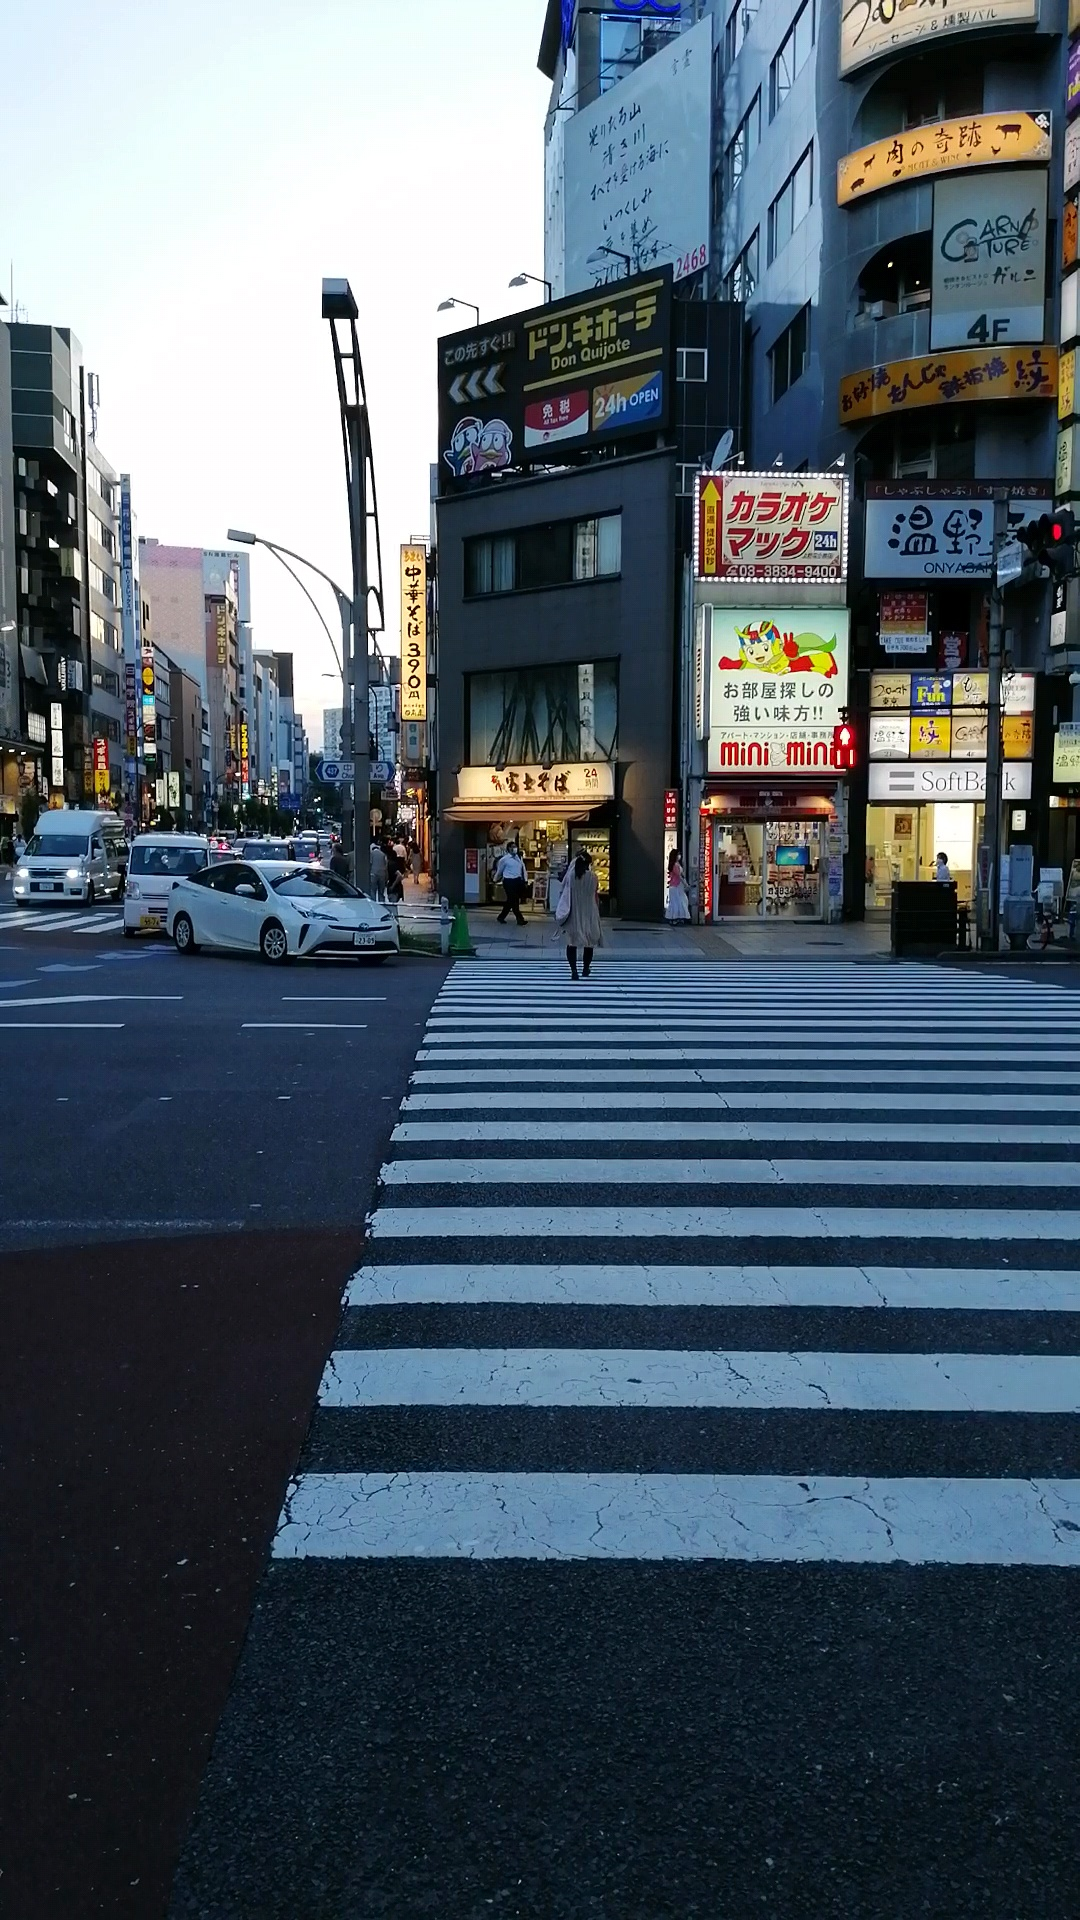red: (832, 723, 856, 769)
